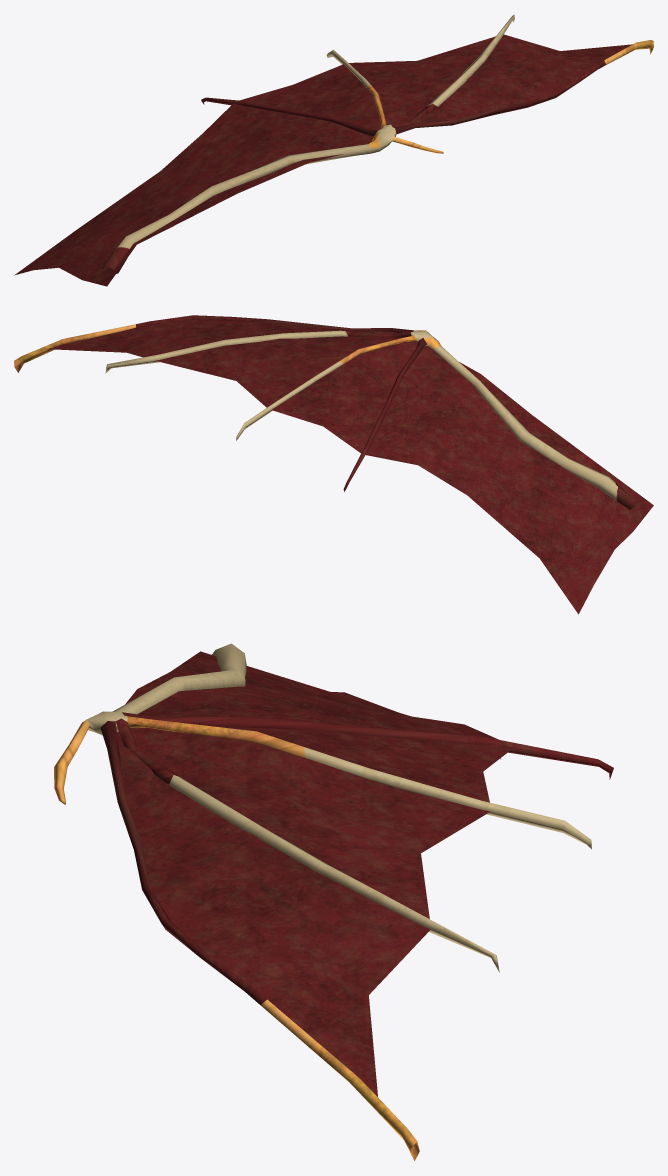
The model's file is LEFTWING.obj.
The picture shows the model from 3 angles, top to bottom: view 1: azimuth 30°, elevation 25°; view 2: azimuth 150°, elevation 25°; view 3: azimuth 270°, elevation 25°; orthographic projection. The views are drawn at different scales.
Parts seen in each view (by area): view 1: Plane.003; view 2: Plane.003; view 3: Plane.003.
Part boxes in pixels (bbox=[...]): Plane.003: bbox=[14, 14, 653, 286]; Plane.003: bbox=[14, 315, 653, 614]; Plane.003: bbox=[54, 643, 613, 1160].
Bounding box in the file's own units: 55.42 × 13.72 × 22.95.
